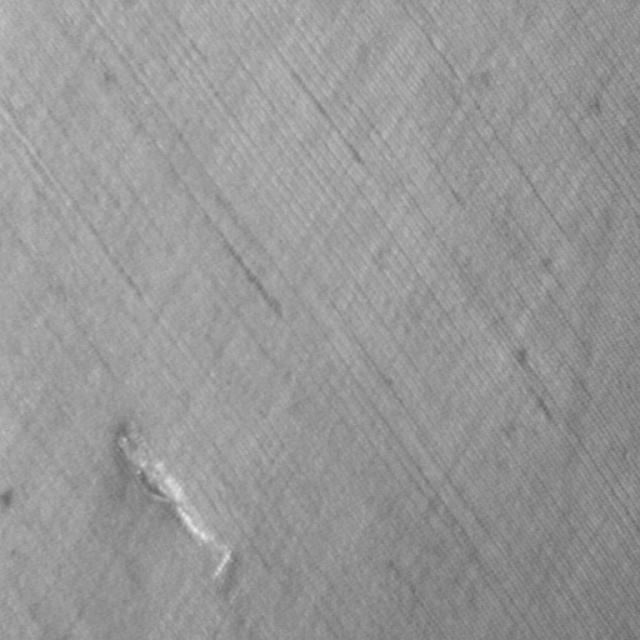hole: (110, 415, 238, 594)
